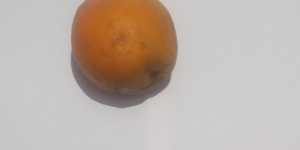BAD: (74, 1, 180, 94)
